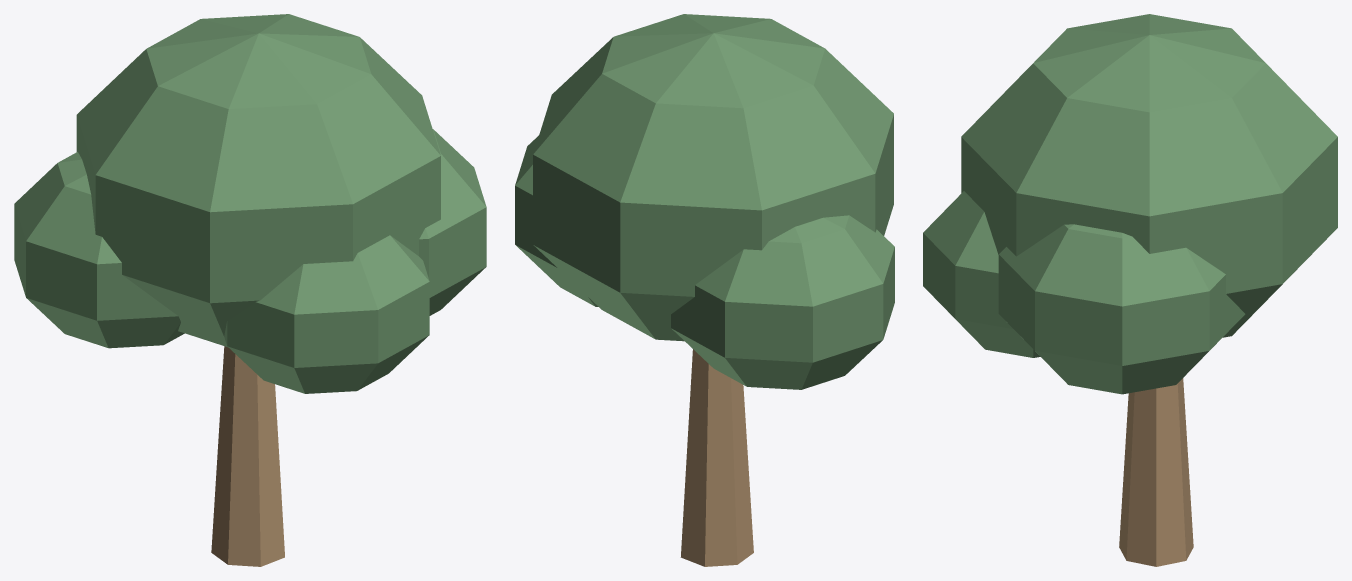
File: golf-course-and-clubhouse-course-tree-b2e7c574__33506.glb
The picture shows the model from 3 angles, left to right: view 1: azimuth 30°, elevation 25°; view 2: azimuth 150°, elevation 25°; view 3: azimuth 270°, elevation 25°; orthographic projection.
Parts seen in each view (by area): view 1: course-tree; view 2: course-tree; view 3: course-tree.
Boxes of the visible parts, box(x1,y1,x2,y2) form: course-tree: box(14, 14, 486, 566); course-tree: box(515, 14, 894, 566); course-tree: box(923, 14, 1337, 566).
Bounding box in the file's own units: 3.41 × 4.19 × 3.04.
